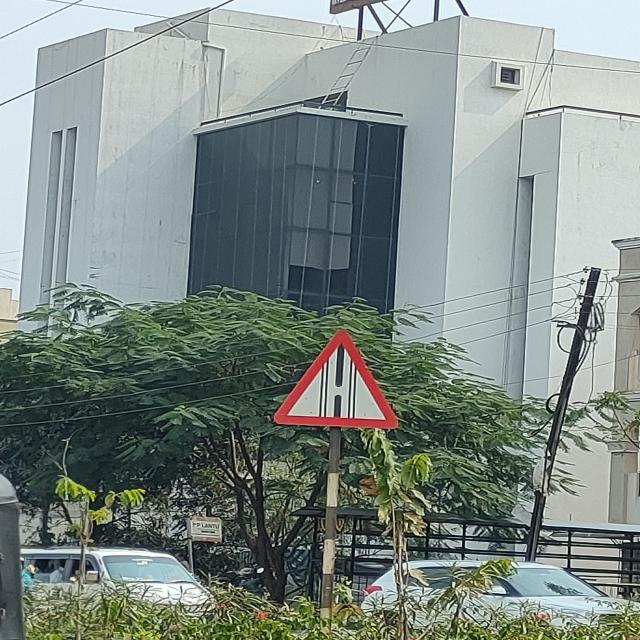GAP_IN_MEDIAN: (272, 328, 405, 429)
